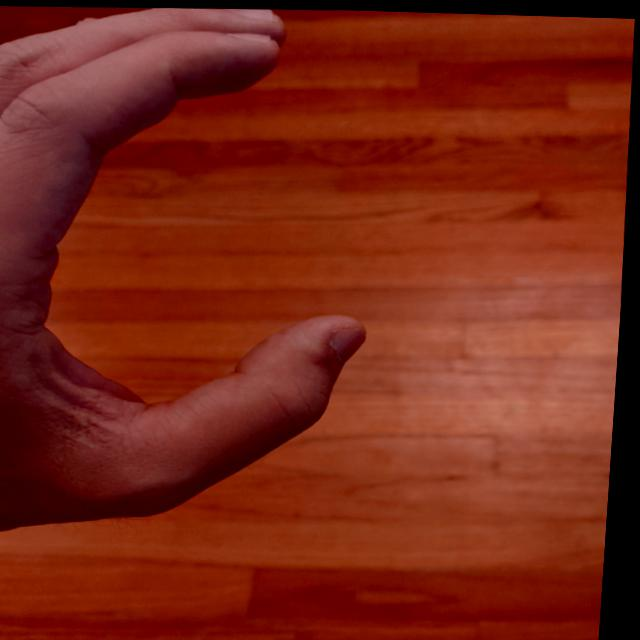C: (0, 0, 407, 558)
